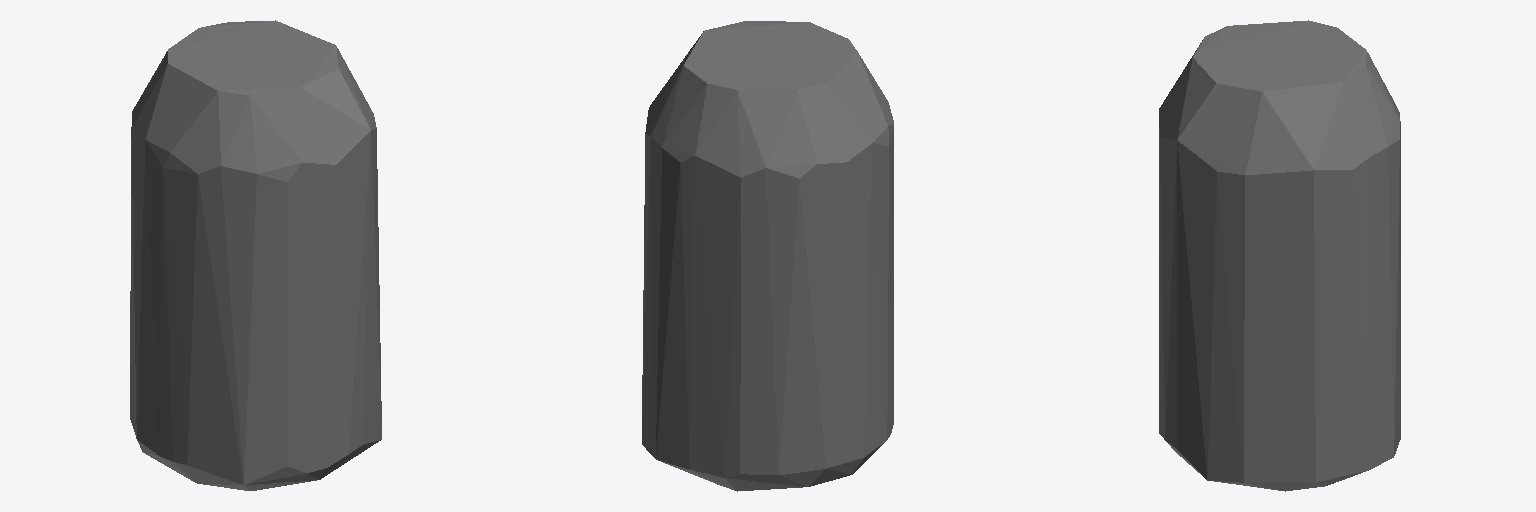
URDF robot description (can_007):
<?xml version="1.0" ?>
<robot name="can_007">
  <material name="color">
    <color rgba=".5 .5 .5 1"/>
  </material>

  <link name="base_link">
    <contact>
      <lateral_friction value="1.0"/>
      <rolling_friction value="0.001"/>
      <spinning_friction value="0.001"/>
      <inertia_scaling value="1.0"/>
    </contact>
    <inertial>
      <origin rpy="0 0 0" xyz="1.59656e-06 -9.71632e-06 -0.000387528"/>
       <mass value="0.1"/>
       <inertia ixx="1" ixy="0" ixz="0" iyy="1" iyz="0" izz="1"/>
    </inertial>

    <visual>
      <origin rpy="0 0 0" xyz="0 0 0"/>
      <geometry>
        <mesh filename="can_007_vhacd_0_of_1.obj" scale="1 1 1"/>
      </geometry>
      <material name="color"/>
    </visual>

    <collision>
      <origin rpy="0 0 0" xyz="0 0 0"/>
      <geometry>
        <mesh filename="can_007_vhacd_0_of_1.obj" scale="1 1 1"/>
      </geometry>
    </collision>

  </link>
</robot>

--- Facts derived from the render (not from the file) ---
Views: 3 orthographic renders of the robot side by side, from view 1: azimuth 30°, elevation 25°; view 2: azimuth 150°, elevation 25°; view 3: azimuth 270°, elevation 25°.
Model can_007 with 1 links and 0 joints (none), rooted at base_link, posed every joint at zero.
Visible links, largest first — view 1: base_link; view 2: base_link; view 3: base_link.
Link boxes in pixels (bbox=[...]): base_link: bbox=[130, 20, 381, 490]; base_link: bbox=[642, 21, 893, 491]; base_link: bbox=[1159, 20, 1400, 491].
Size in the robot's own frame: 0.0623 by 0.0611 by 0.1132 metres.
1 mesh visuals loaded from 1 distinct referenced files (1 OBJ).